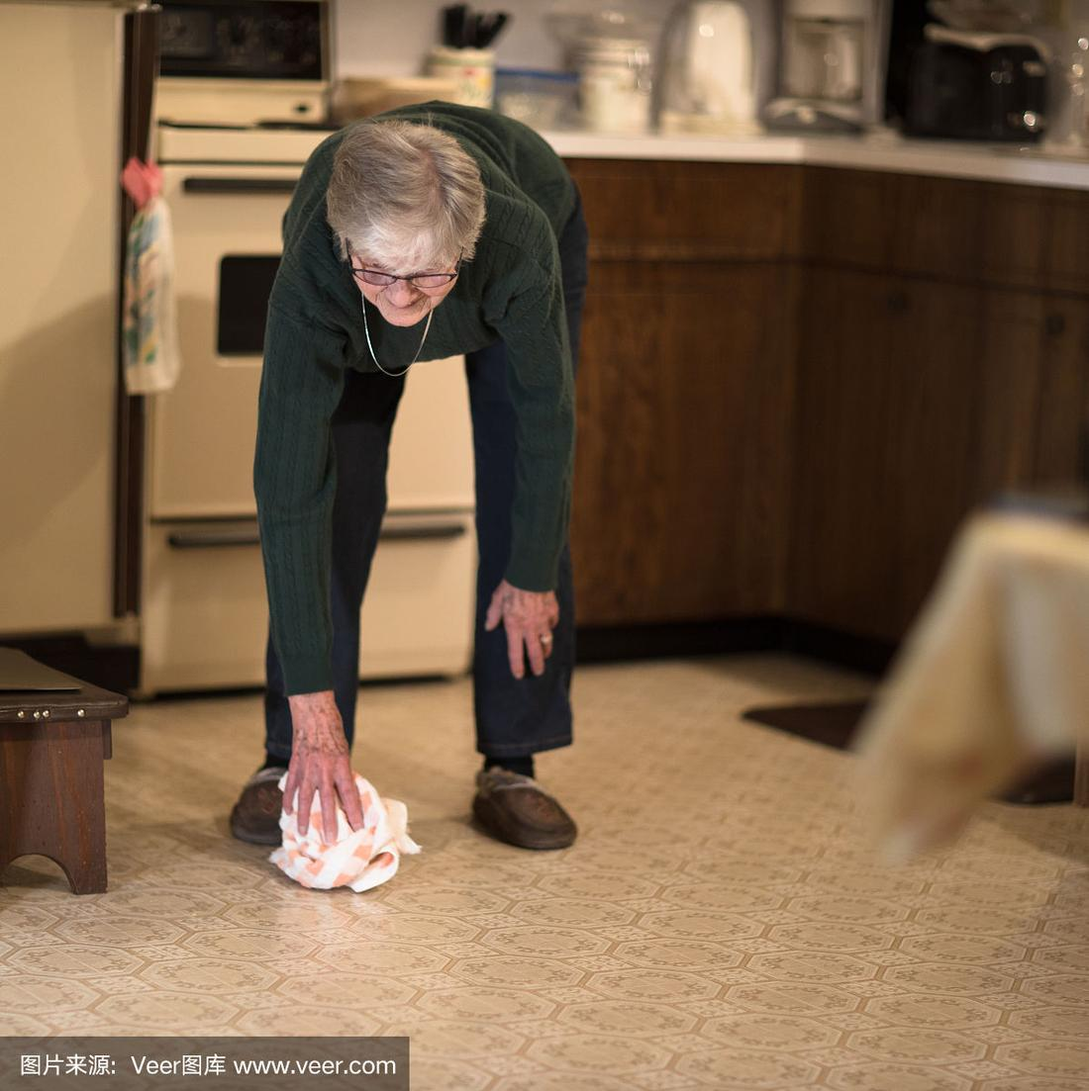bending: (223, 96, 614, 887)
